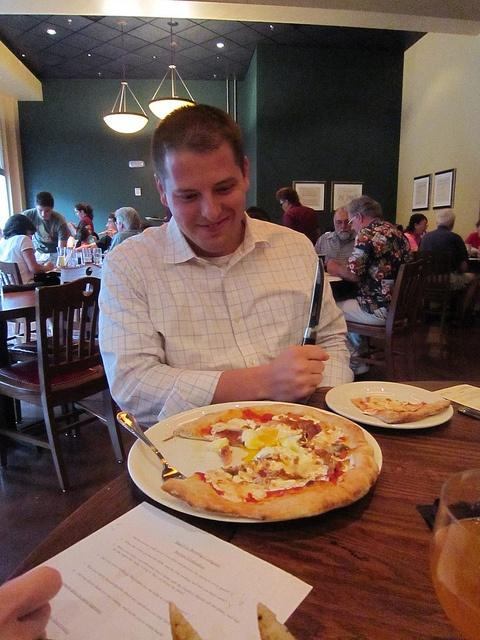Kursi: (0, 276, 125, 494)
